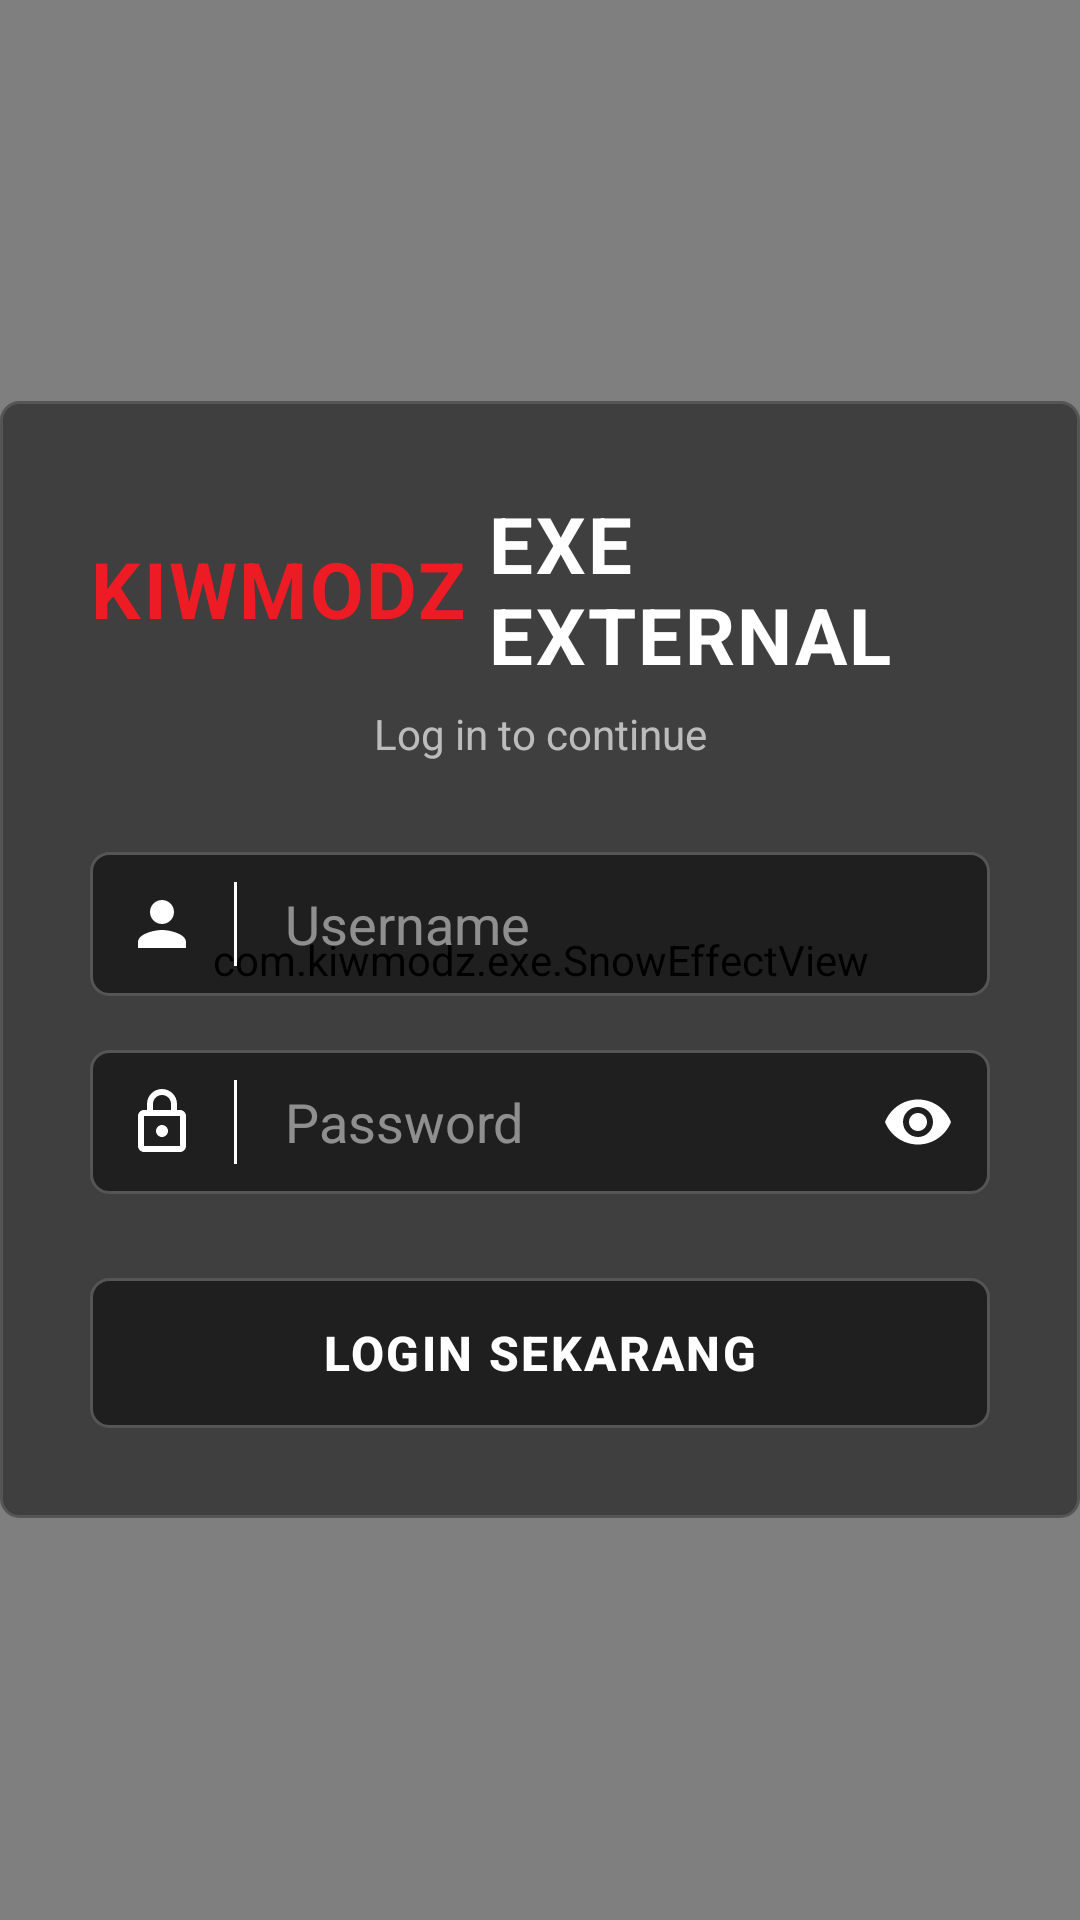

Where to tap for icons on this 1080w x 1920h app screen, as (x,y):
eye: (916,1122)
lock: (163,1122)
